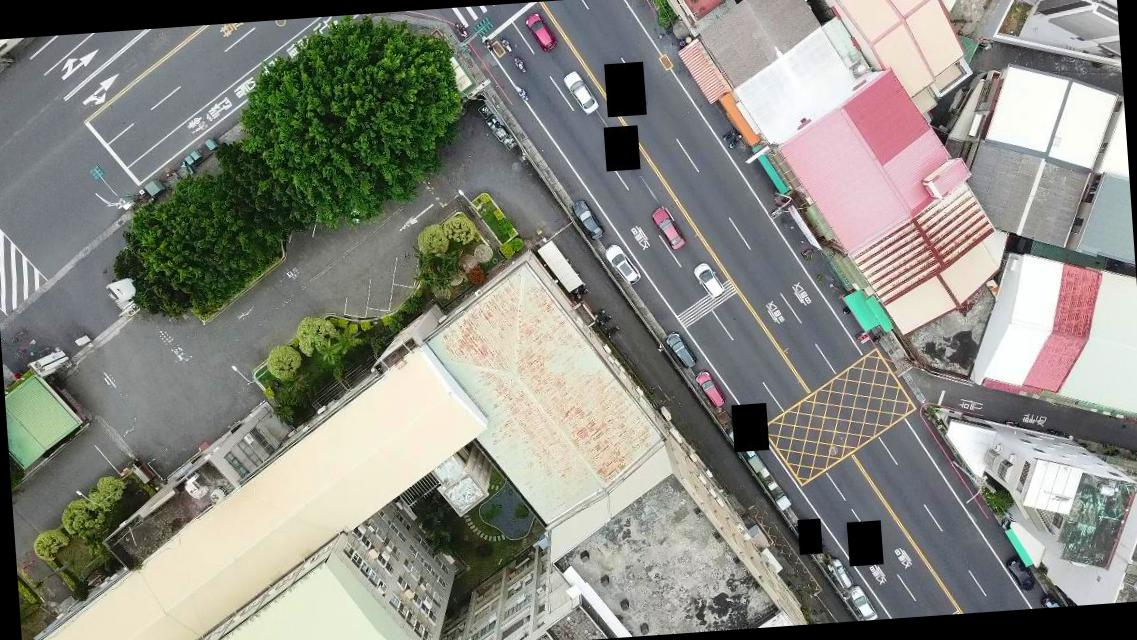vehicle: (562, 68, 600, 118), (602, 240, 642, 286), (650, 203, 686, 252), (570, 194, 604, 242), (524, 9, 558, 53), (691, 259, 725, 301), (664, 330, 697, 370), (694, 368, 724, 410), (1004, 554, 1036, 593), (850, 583, 877, 620), (828, 555, 853, 589)
